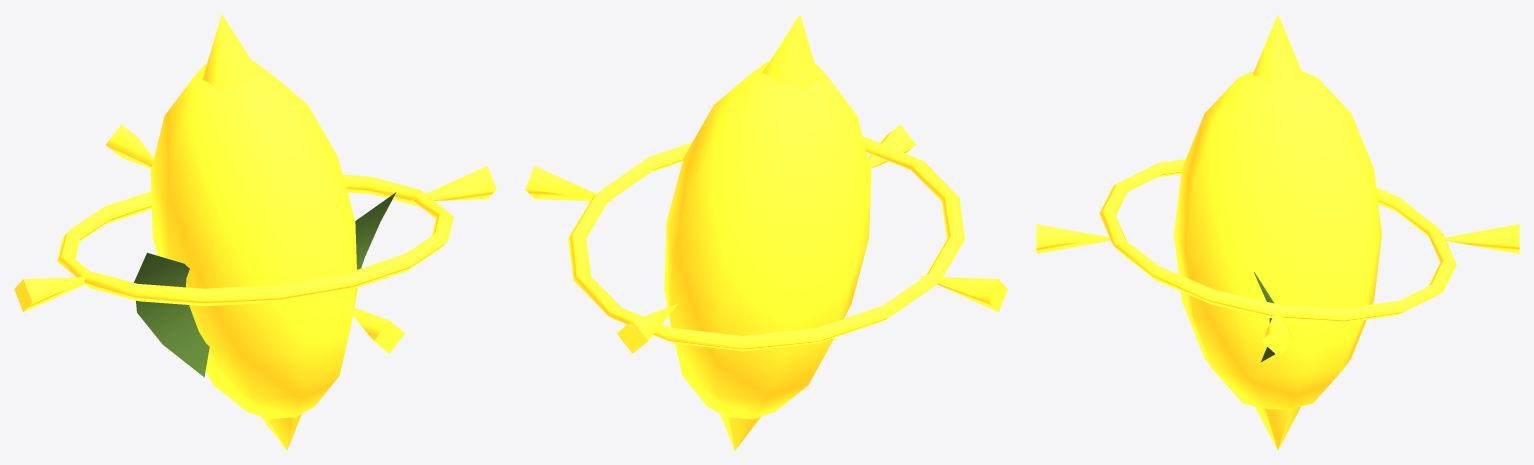
Rendered from rice_gem.glb.
The picture shows the model from 3 angles, left to right: view 1: azimuth 30°, elevation 25°; view 2: azimuth 150°, elevation 25°; view 3: azimuth 270°, elevation 25°; orthographic projection. The views are drawn at different scales.
Parts seen in each view (by area): view 1: RiceGem; view 2: RiceGem; view 3: RiceGem.
Part boxes in pixels (left/top/right/bottom): RiceGem: left=14, top=14, right=496, bottom=450; RiceGem: left=525, top=14, right=1007, bottom=450; RiceGem: left=1036, top=14, right=1519, bottom=450.
Bounding box in the file's own units: 0.7 × 0.6526 × 0.7.
